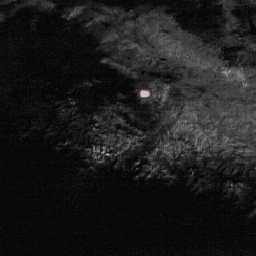Target: (139, 88, 153, 98)
